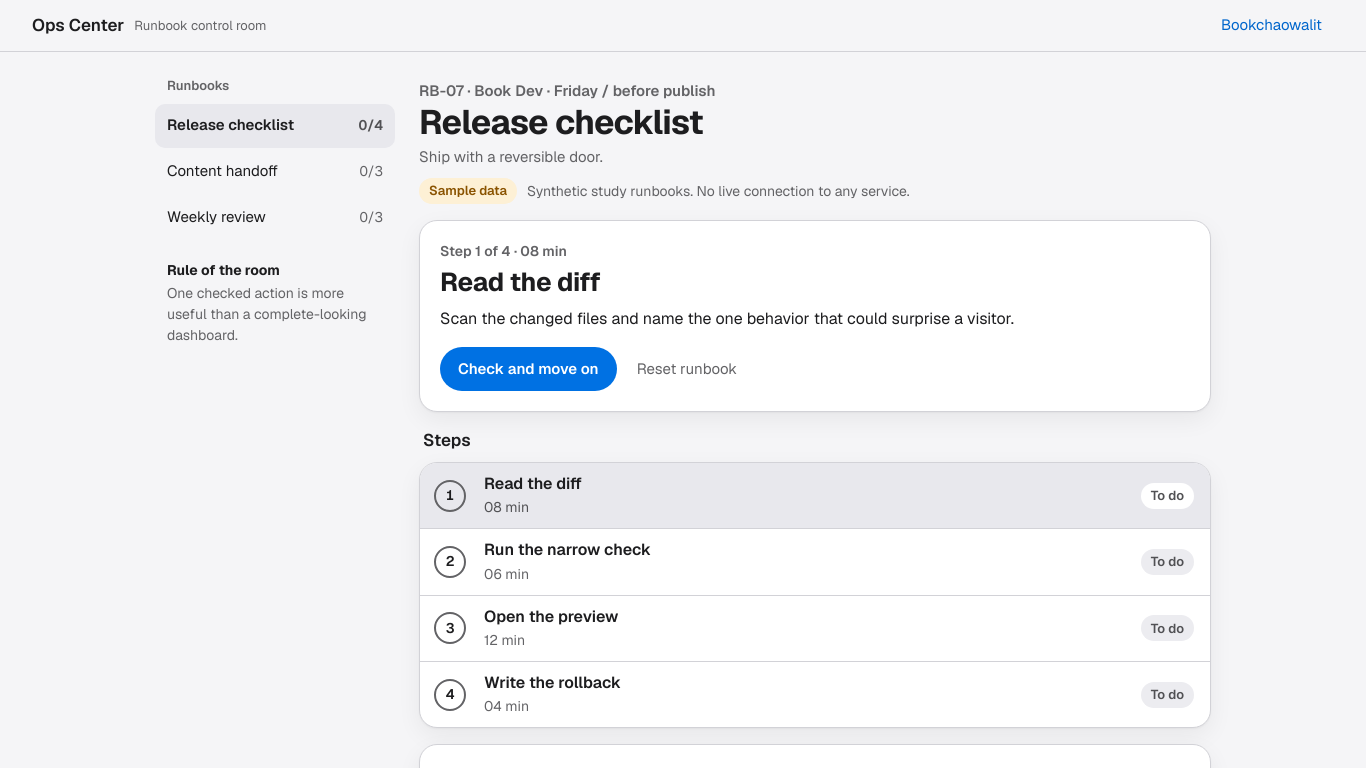
Scenario: checking steps › keeps each runbook's checks separate
Click the button with class "as-button". click: [528, 369]
box: left=440, top=347, right=617, bottom=391
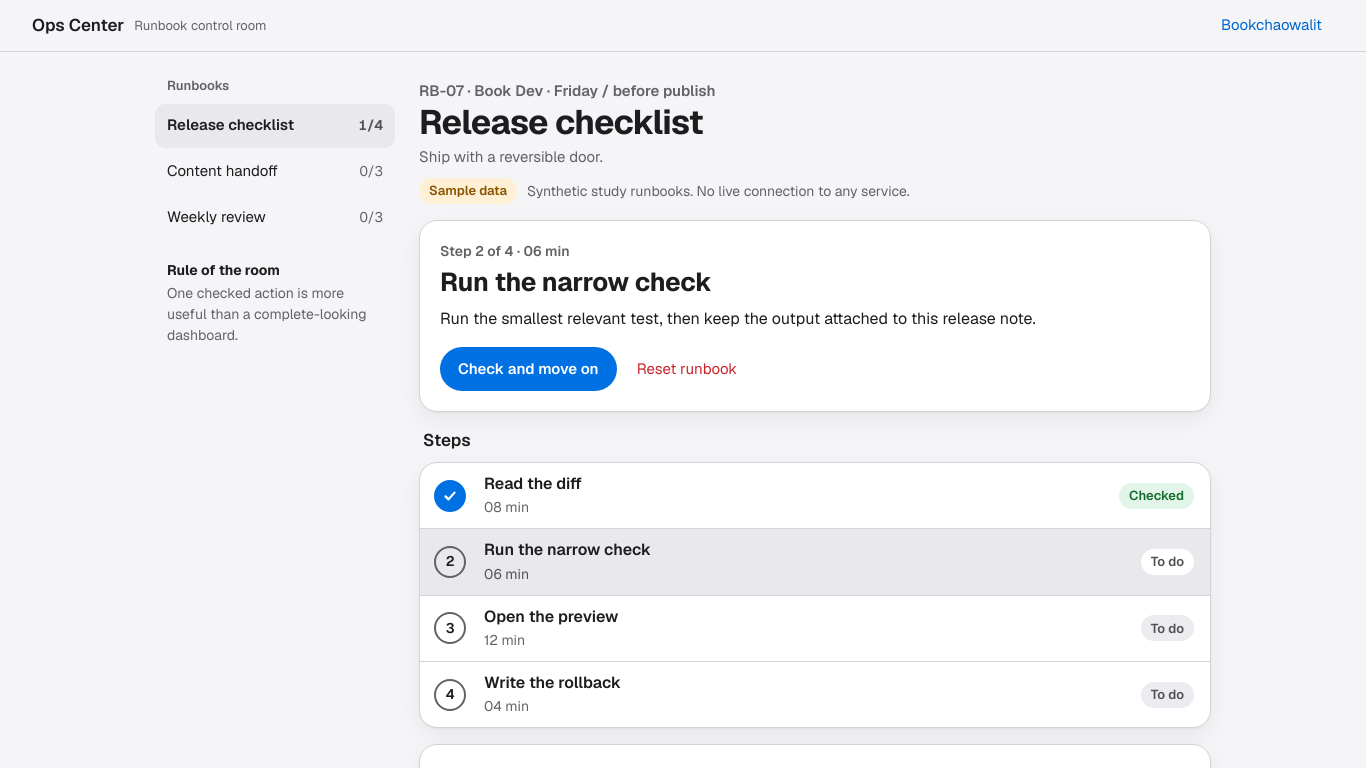
Click the button "Weekly review 0/3". click: [275, 218]
box: left=155, top=196, right=395, bottom=240
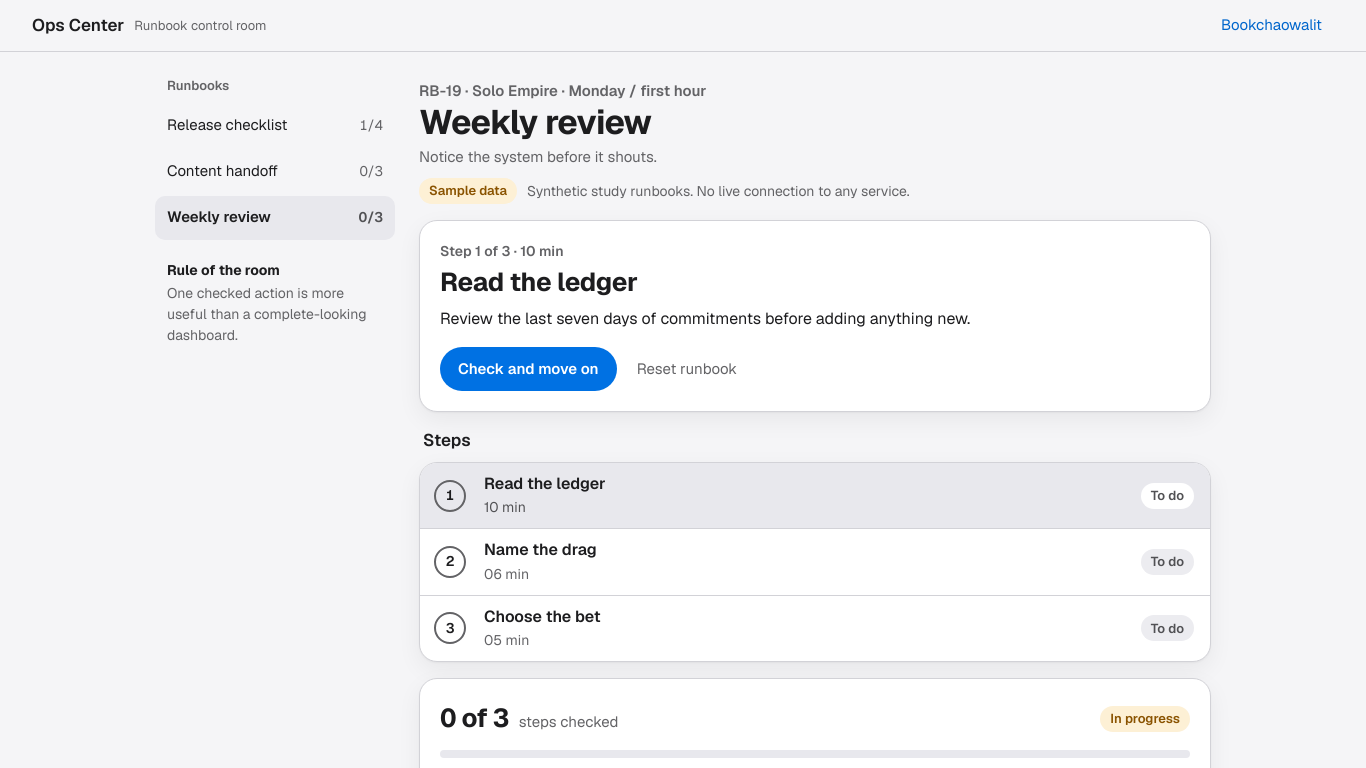
Click the button "Release checklist 1/4". click: [275, 126]
box: left=155, top=104, right=395, bottom=148
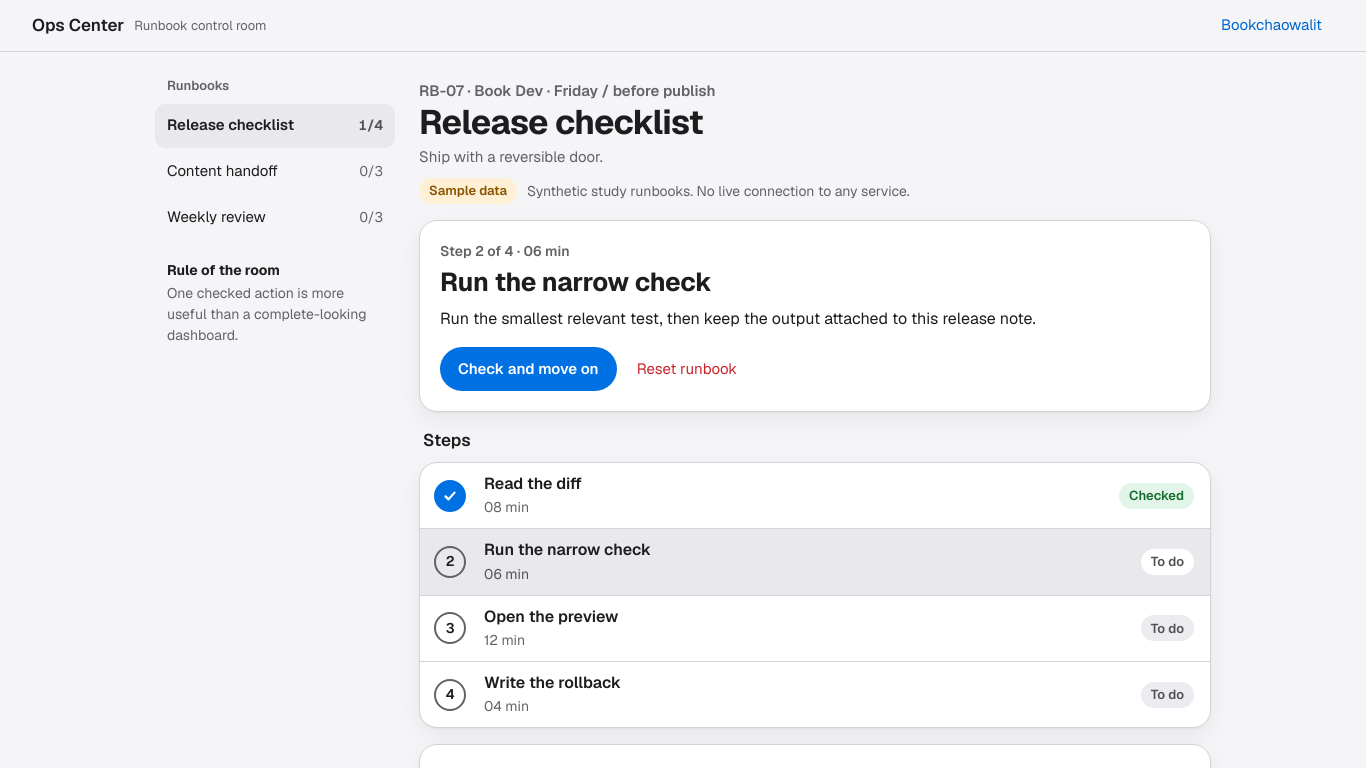
expect the text with class "as-pill" reads "Checked": met, box left=1129, top=487, right=1184, bottom=504
